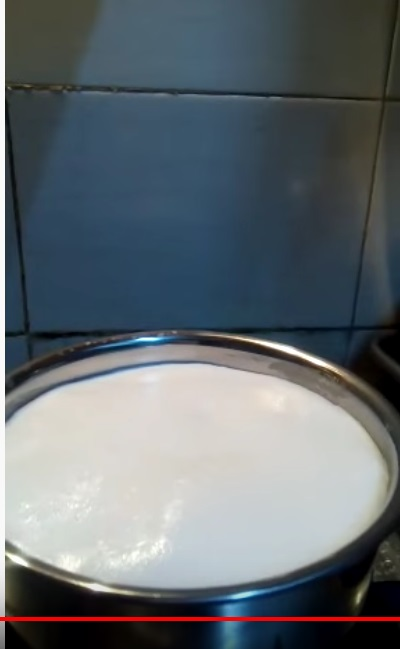Steaming: (5, 320, 399, 591)
